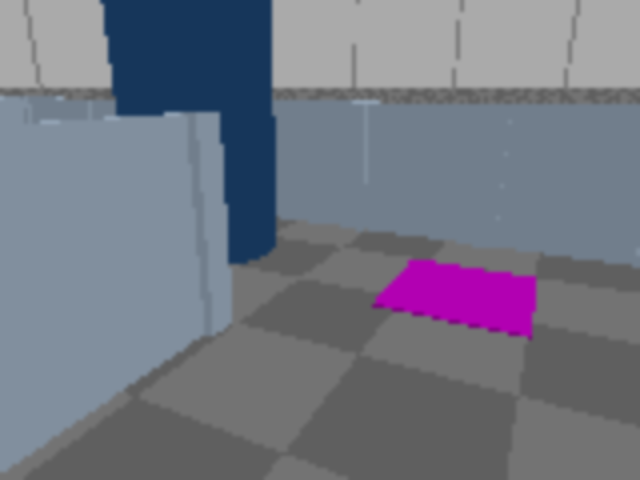goal_zone: (373, 259, 538, 339)
